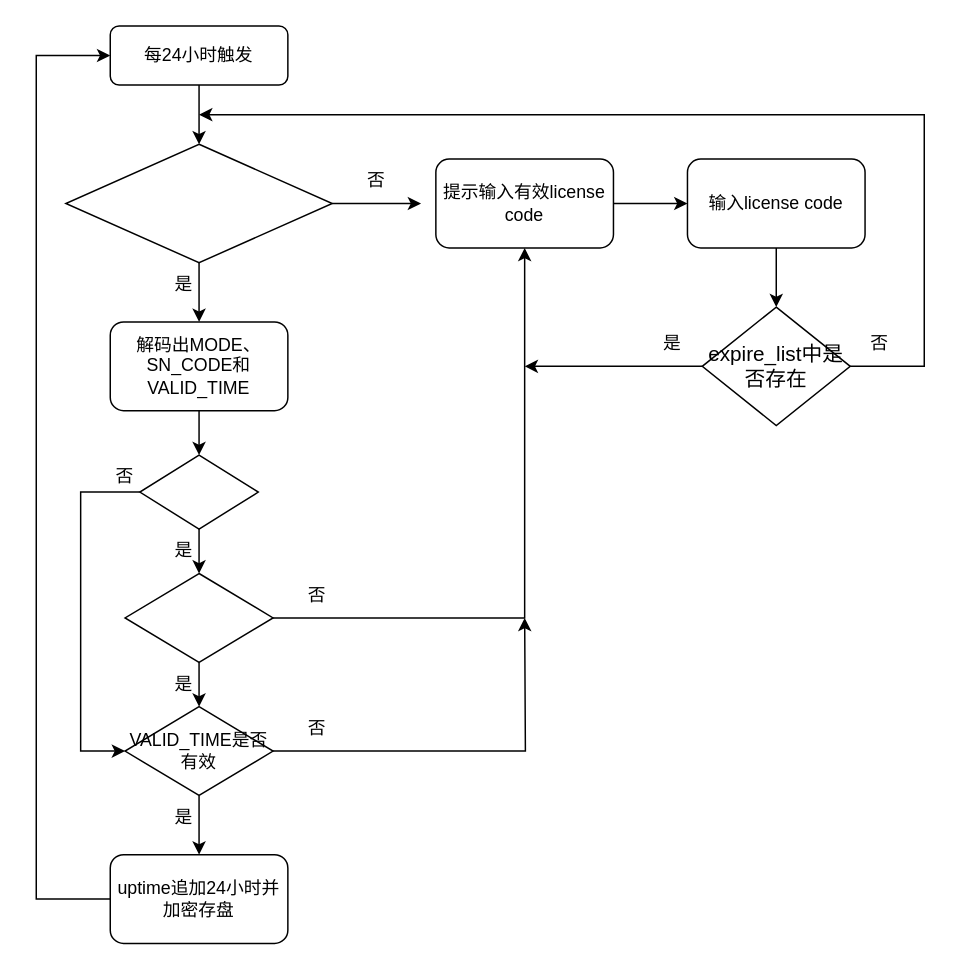
Image size: 962x969. Some labels were removed from this diagram. The box of each missing label's shape, as (x1, y1, x2, y2) in pixels:
license code是否有效: (64, 143, 332, 263)
MODE==1: (138, 454, 258, 529)
SN_CODE是否有效: (124, 572, 273, 662)
